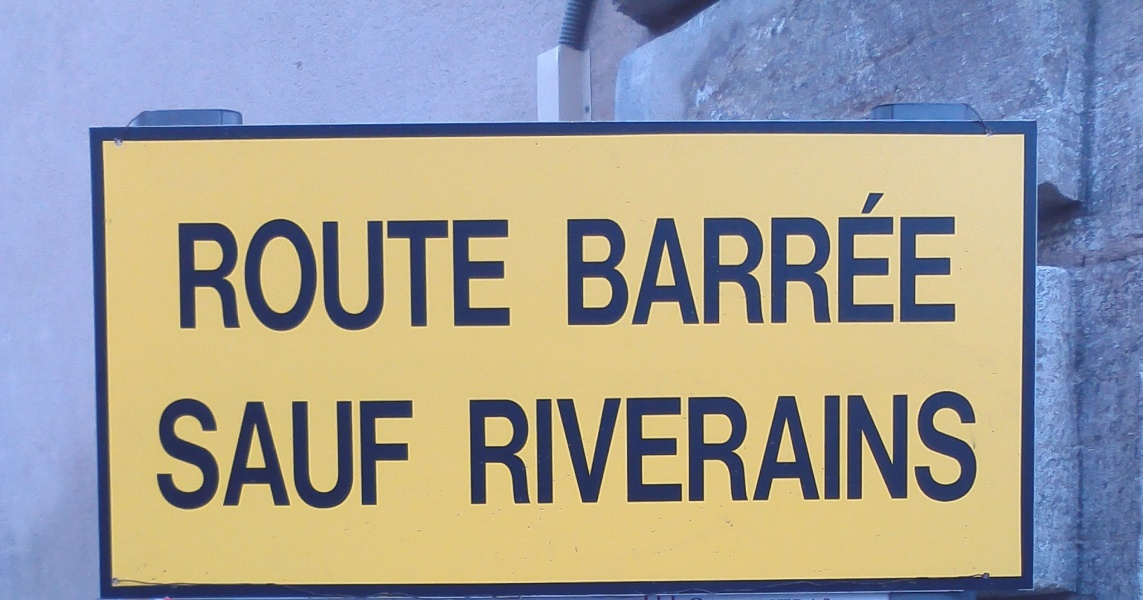text: (577, 190, 592, 326), (593, 190, 608, 326), (609, 190, 624, 326), (625, 190, 640, 326), (641, 190, 656, 326), (657, 190, 672, 326), (673, 190, 688, 326), (689, 190, 704, 326), (705, 190, 720, 326), (721, 190, 736, 326), (737, 190, 752, 326), (753, 190, 768, 326), (769, 190, 784, 326), (785, 190, 800, 326), (801, 190, 816, 326), (817, 190, 832, 326), (833, 190, 848, 326), (849, 190, 864, 326), (865, 190, 880, 326), (881, 190, 896, 326), (897, 190, 912, 326), (913, 190, 928, 326), (929, 190, 944, 326), (193, 217, 208, 333), (209, 217, 224, 333), (225, 217, 240, 333), (241, 217, 256, 333), (257, 217, 272, 333), (273, 217, 288, 333), (289, 217, 304, 333), (305, 217, 320, 333), (321, 217, 336, 333), (337, 217, 352, 333), (353, 217, 368, 333), (369, 217, 384, 333), (385, 217, 400, 333), (401, 217, 416, 333), (417, 217, 432, 333), (433, 217, 448, 333), (449, 217, 464, 333), (465, 217, 480, 333), (481, 217, 496, 333), (497, 217, 512, 333), (481, 390, 496, 506), (497, 390, 512, 506), (513, 390, 528, 506), (529, 390, 544, 506), (545, 390, 560, 506), (561, 390, 576, 506), (577, 390, 592, 506), (593, 390, 608, 506), (609, 390, 624, 506), (625, 390, 640, 506), (641, 390, 656, 506), (657, 390, 672, 506), (673, 390, 688, 506), (689, 390, 704, 506), (705, 390, 720, 506), (721, 390, 736, 506), (737, 390, 752, 506), (753, 390, 768, 506), (769, 390, 784, 506), (785, 390, 800, 506), (801, 390, 816, 506), (817, 390, 832, 506), (833, 390, 848, 506), (849, 390, 864, 506), (865, 390, 880, 506), (881, 390, 896, 506), (897, 390, 912, 506), (913, 390, 928, 506), (929, 390, 944, 506), (945, 390, 960, 506), (961, 390, 976, 506), (161, 399, 176, 512), (177, 399, 192, 512), (193, 399, 208, 512), (209, 399, 224, 512), (225, 399, 240, 512), (241, 399, 256, 512), (257, 399, 272, 512), (273, 399, 288, 512), (289, 399, 304, 512), (305, 399, 320, 512), (321, 399, 336, 512), (337, 399, 352, 512), (353, 399, 368, 512), (369, 399, 384, 512), (385, 399, 400, 512), (945, 190, 957, 326), (178, 217, 192, 333), (401, 399, 415, 512), (468, 390, 480, 506), (566, 190, 576, 326), (977, 390, 980, 506), (157, 399, 160, 512)
